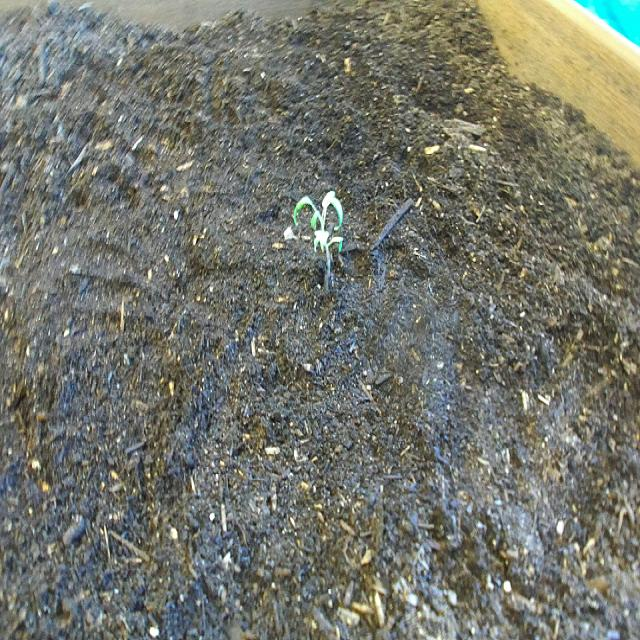Healthy: (287, 166, 363, 303)
